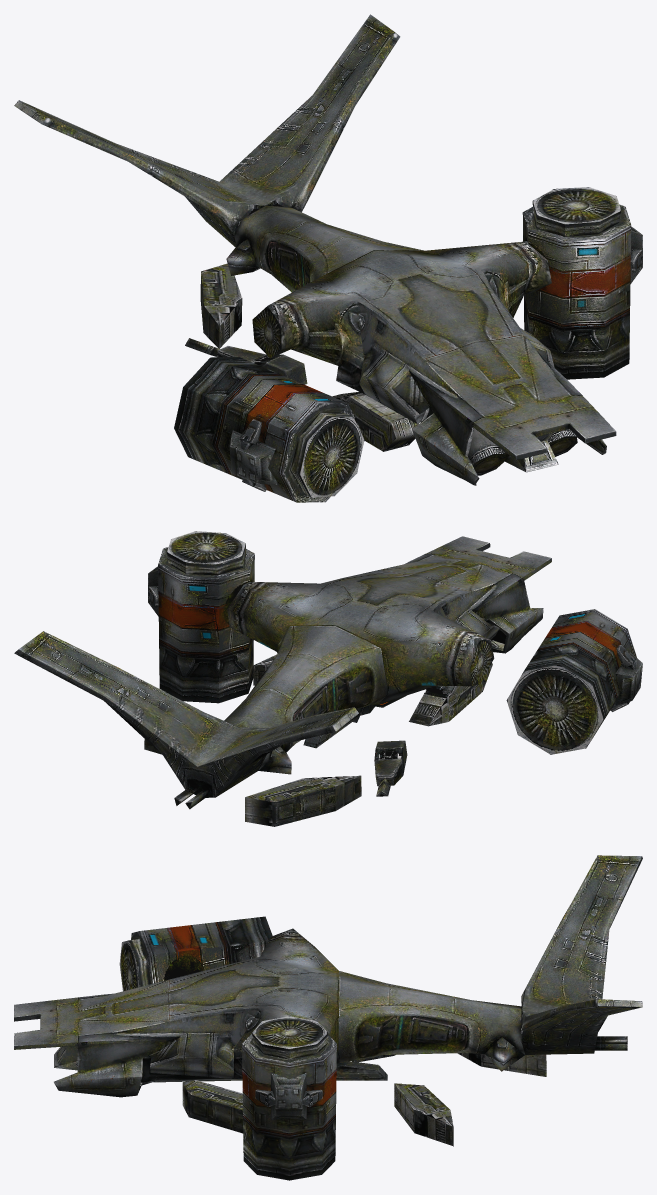
Rendered from Vehicle_Fj01_lod1.glb.
3 views of the same model, one above another, from view 1: azimuth 30°, elevation 25°; view 2: azimuth 150°, elevation 25°; view 3: azimuth 270°, elevation 25° (orthographic). The views are drawn at different scales.
Visible parts, largest first — view 1: tianwang_fj01_lod1; view 2: tianwang_fj01_lod1; view 3: tianwang_fj01_lod1.
Part boxes in pixels (x1,y1,x2,y2): tianwang_fj01_lod1: (14,14,642,502); tianwang_fj01_lod1: (14,531,642,826); tianwang_fj01_lod1: (14,855,642,1180).
Bounding box in the file's own units: 23.08 × 8.89 × 30.85.
1 material, 1 textured.
